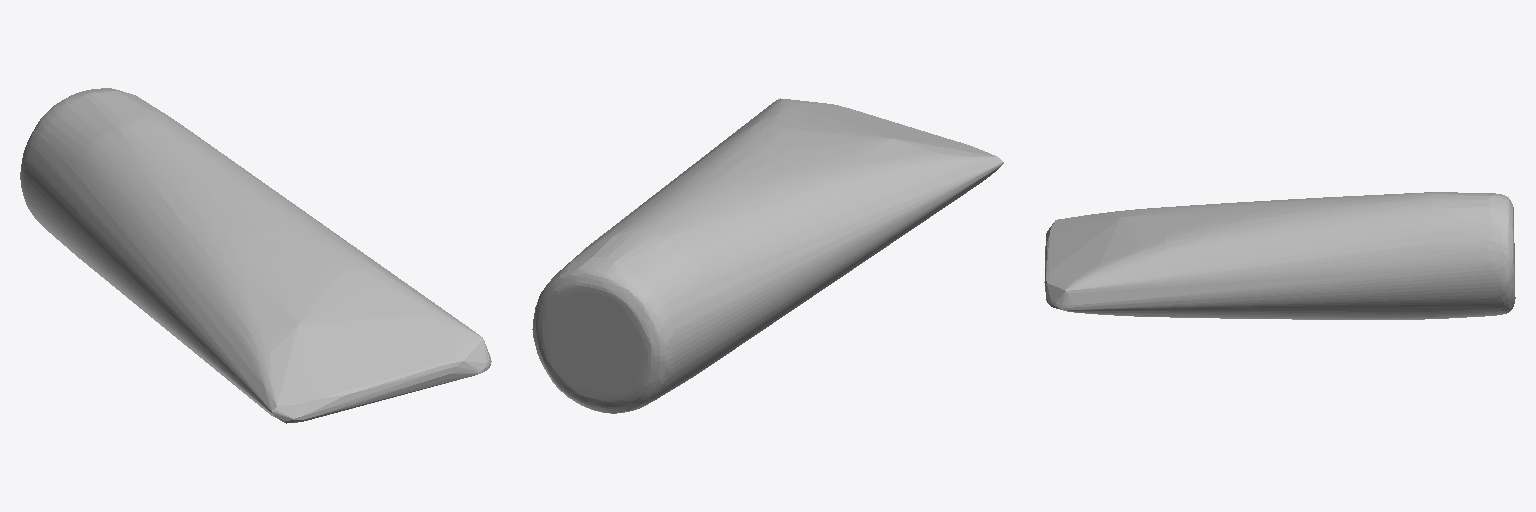
URDF robot description (root):
<robot name="root">
  <link name="link_coacd_convex_piece_0">
    <inertial>
      <origin xyz="0 0 0" rpy="0 0 0"/>
      <inertia ixx="8.02E-07" ixy="9.12E-09" ixz="-6.37E-10" iyy="1.17E-07" iyz="-1.59E-08" izz="8.47E-07"/>
    </inertial>
    <visual>
      <origin xyz="0 0 0" rpy="0 0 0"/>
      <geometry>
        <mesh filename="coacd_convex_piece_0.obj" scale="1.0000E+00 1.0000E+00 1.0000E+00"/>
      </geometry>
      <material name="">
        <color rgba="7.50E-01 7.50E-01 7.50E-01 1"/>
      </material>
    </visual>
    <collision>
      <origin xyz="0 0 0" rpy="0 0 0"/>
      <geometry>
        <mesh filename="coacd_convex_piece_0.obj" scale="1.0000E+00 1.0000E+00 1.0000E+00"/>
      </geometry>
    </collision>
  </link>
</robot>

--- Facts derived from the render (not from the file) ---
Views: 3 orthographic renders of the robot side by side, from view 1: azimuth 30°, elevation 25°; view 2: azimuth 150°, elevation 25°; view 3: azimuth 270°, elevation 25°.
Model root with 1 links and 0 joints (none), rooted at link_coacd_convex_piece_0, posed all joints at 0.
Visible links, largest first — view 1: link_coacd_convex_piece_0; view 2: link_coacd_convex_piece_0; view 3: link_coacd_convex_piece_0.
Boxes of the visible links, x1,y1,x2,y2 form: link_coacd_convex_piece_0: (20,88,491,423); link_coacd_convex_piece_0: (532,98,1003,413); link_coacd_convex_piece_0: (1044,192,1515,319).
Size in the robot's own frame: 0.0796 by 0.1904 by 0.0512 metres.
1 mesh visuals loaded from 1 distinct referenced files (1 OBJ).